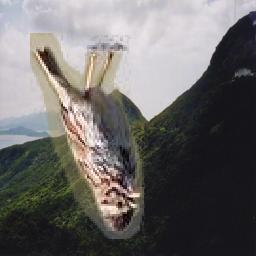Sparrow: (31, 33, 146, 239)
